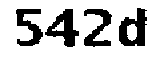2: (82, 5, 113, 53)
4: (45, 7, 81, 52)
5: (11, 5, 45, 51)
d: (114, 3, 153, 53)
